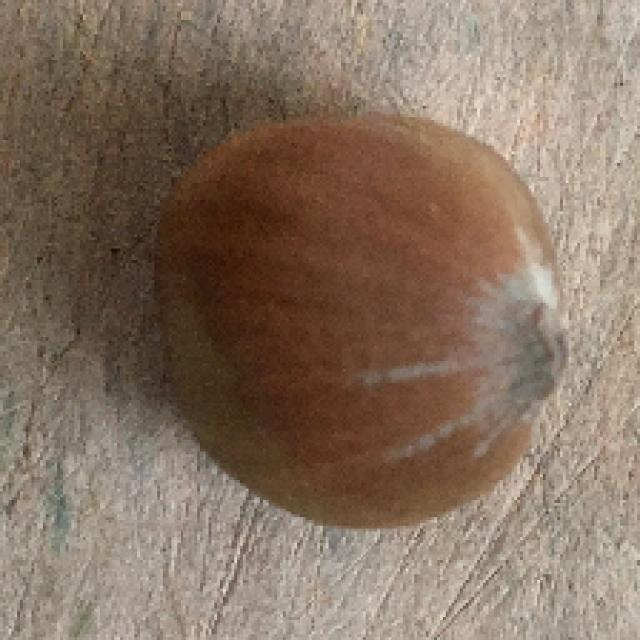qualityHazelnut: (145, 97, 577, 531)
